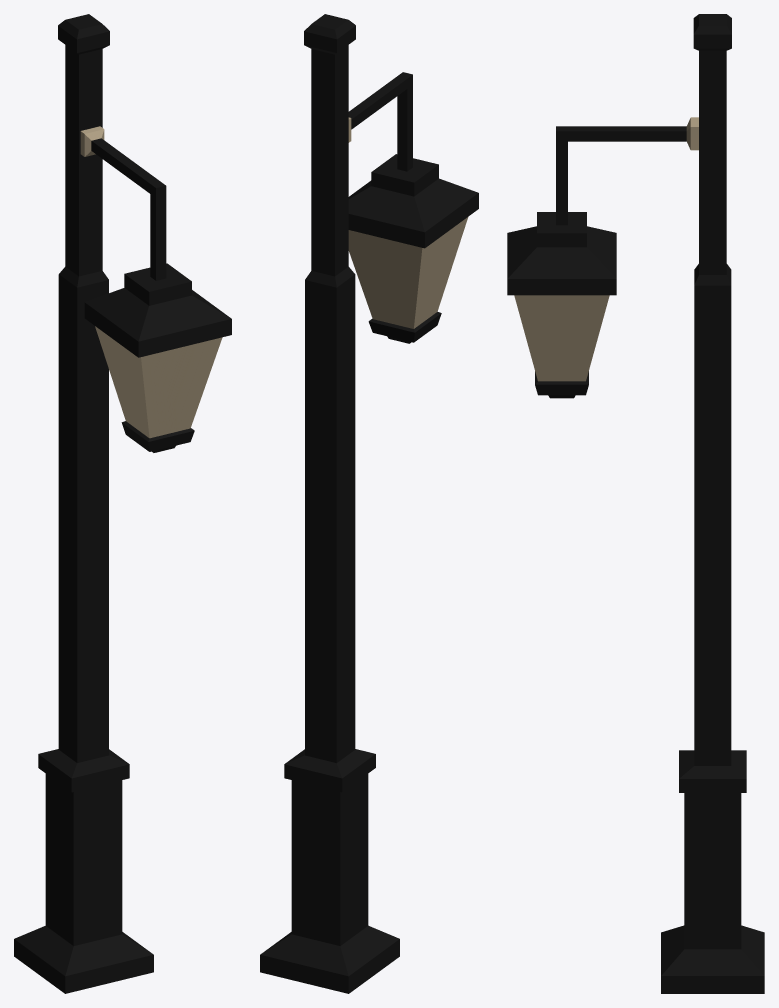
The model's file is road_lamp.FBX.
3 renders of one model, left to right at view 1: azimuth 30°, elevation 25°; view 2: azimuth 150°, elevation 25°; view 3: azimuth 270°, elevation 25°, orthographic.
Parts seen in each view (by area): view 1: Box140, lamp_pole, Box141; view 2: Box140, lamp_pole, Box141; view 3: lamp_pole, Box140, Box141.
Boxes of the visible parts, x1,y1,x2,y2 form: Box140: [58, 14, 109, 763]; lamp_pole: [14, 126, 222, 993]; Box141: [84, 263, 231, 452]; Box140: [304, 14, 355, 763]; lamp_pole: [260, 72, 468, 993]; Box141: [348, 154, 478, 343]; lamp_pole: [514, 117, 764, 993]; Box140: [693, 14, 731, 765]; Box141: [507, 212, 616, 398].
Size of the model in its own units: 2.39 by 23.06 by 5.64.
Materials: 2 (1 with a texture image).
